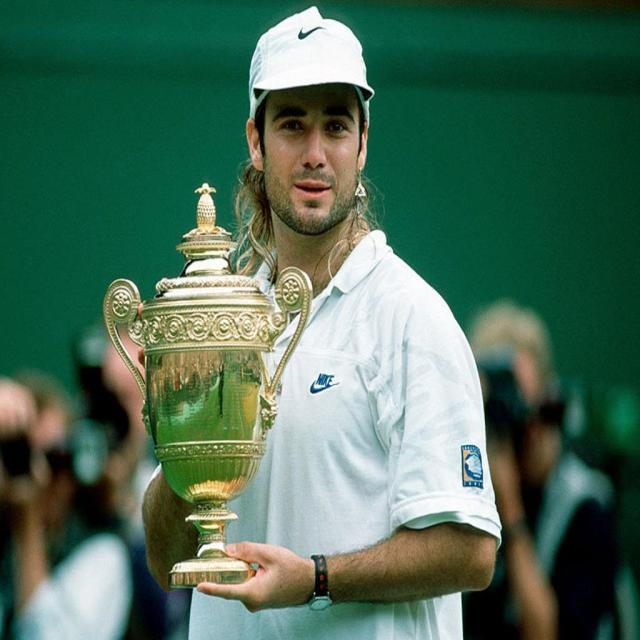Face: (254, 79, 372, 246)
